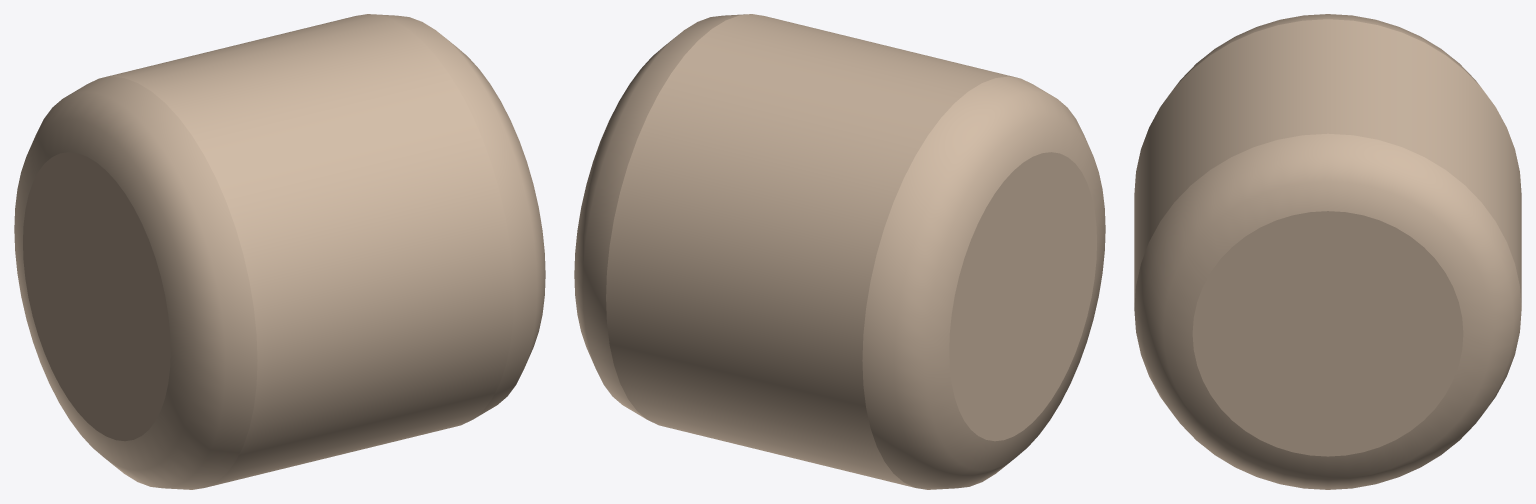
File: cha_boc.glb
3 renders of one model, left to right at view 1: azimuth 30°, elevation 25°; view 2: azimuth 150°, elevation 25°; view 3: azimuth 270°, elevation 25°, orthographic. The views are drawn at different scales.
Parts seen in each view (by area): view 1: cha_boc; view 2: cha_boc; view 3: cha_boc.
Part boxes in pixels (x1,y1,x2,y2): cha_boc: (14, 14, 545, 489); cha_boc: (574, 14, 1105, 489); cha_boc: (1134, 14, 1521, 489).
Bounding box in the file's own units: 0.1 × 0.1 × 0.1.
